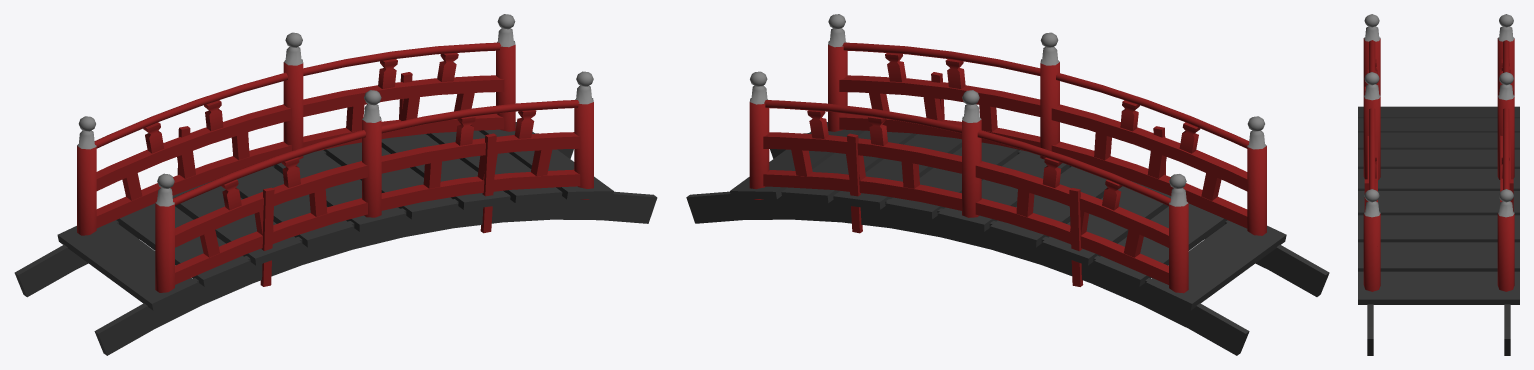
The model's file is SM_bridge_japan.fbx.
3 renders of one model, left to right at view 1: azimuth 30°, elevation 25°; view 2: azimuth 150°, elevation 25°; view 3: azimuth 270°, elevation 25°, orthographic. The views are drawn at different scales.
Parts seen in each view (by area): view 1: Object012; view 2: Object012; view 3: Object012.
Part boxes in pixels (left/top/right/bottom): Object012: left=14, top=14, right=657, bottom=355; Object012: left=686, top=14, right=1329, bottom=355; Object012: left=1358, top=14, right=1519, bottom=355.
Bounding box in the file's own units: 234 × 79.04 × 68.45.
